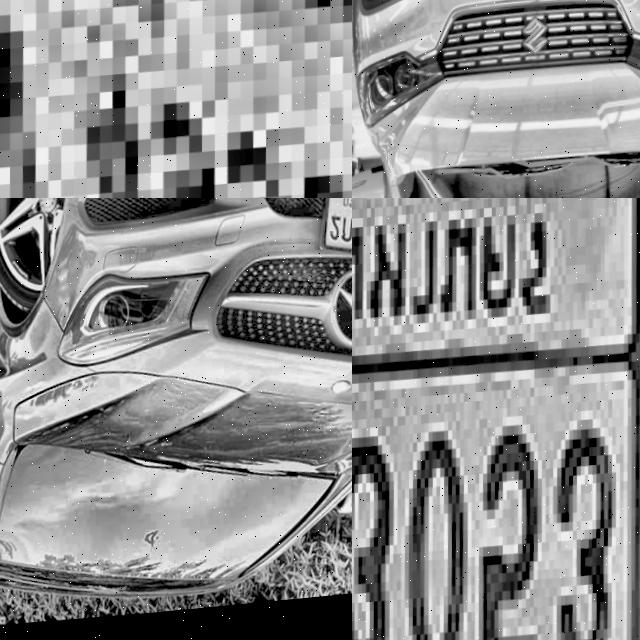license-plate: (352, 198, 640, 640), (0, 0, 352, 198), (314, 198, 352, 283)
